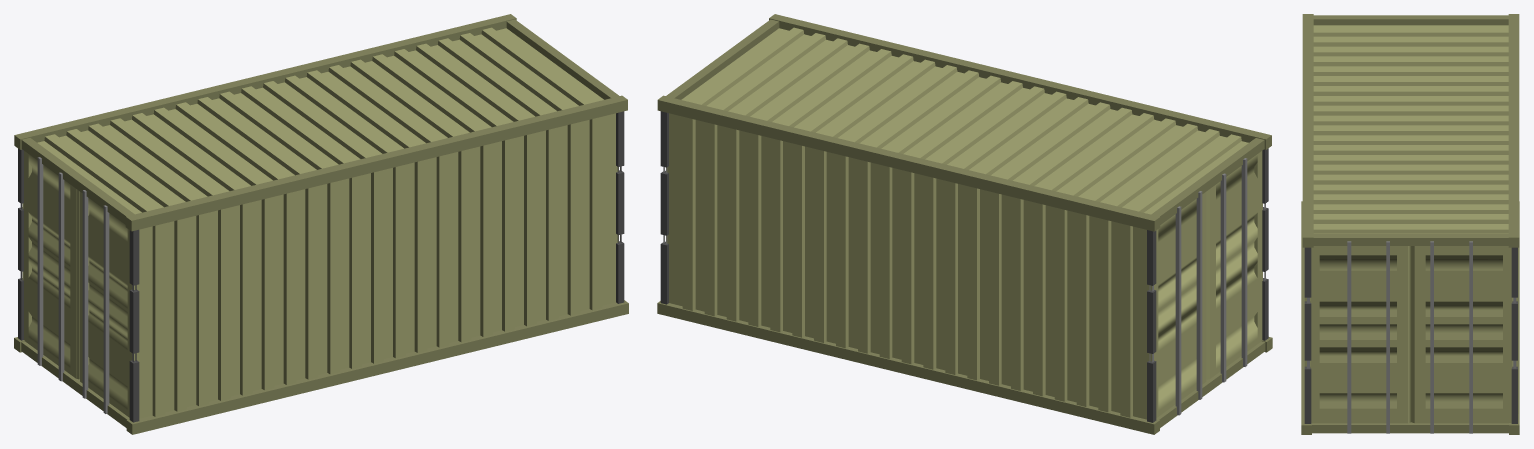
Rendered from container.glb.
3 renders of one model, left to right at view 1: azimuth 30°, elevation 25°; view 2: azimuth 150°, elevation 25°; view 3: azimuth 270°, elevation 25°, orthographic. The views are drawn at different scales.
Parts seen in each view (by area): view 1: Conainer_Material.010_0, Conainer_Material.012_0, Conainer_Material.003_0, Conainer_Material.001_0; view 2: Conainer_Material.010_0, Conainer_Material.012_0, Conainer_Material.003_0, Conainer_Material.001_0; view 3: Conainer_Material.010_0, Conainer_Material.012_0, Conainer_Material.003_0, Conainer_Material.001_0.
Part boxes in pixels (x1,y1,x2,y2): Conainer_Material.010_0: (22,27,618,418); Conainer_Material.012_0: (14,14,628,434); Conainer_Material.003_0: (20,157,621,413); Conainer_Material.001_0: (18,111,624,422); Conainer_Material.010_0: (666,27,1262,419); Conainer_Material.012_0: (657,14,1272,434); Conainer_Material.003_0: (663,158,1265,415); Conainer_Material.001_0: (660,111,1268,422); Conainer_Material.010_0: (1304,25,1518,423); Conainer_Material.012_0: (1301,14,1519,434); Conainer_Material.003_0: (1307,241,1516,433); Conainer_Material.001_0: (1304,247,1517,423).
Bounding box in the file's own units: 1208 × 495 × 497.
